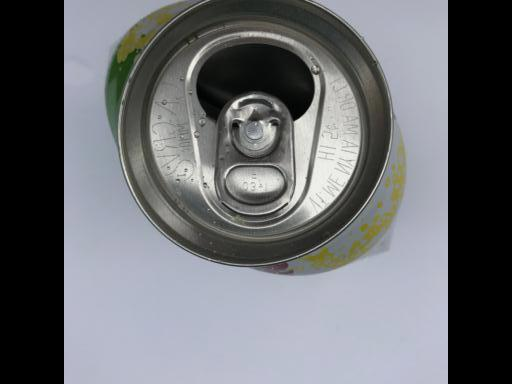metal: (105, 1, 405, 279)
